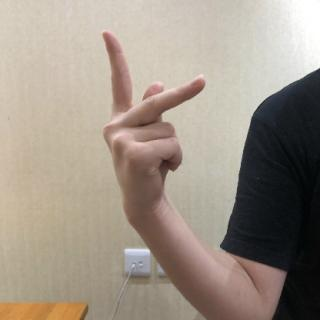DHAA: (97, 28, 213, 222)
